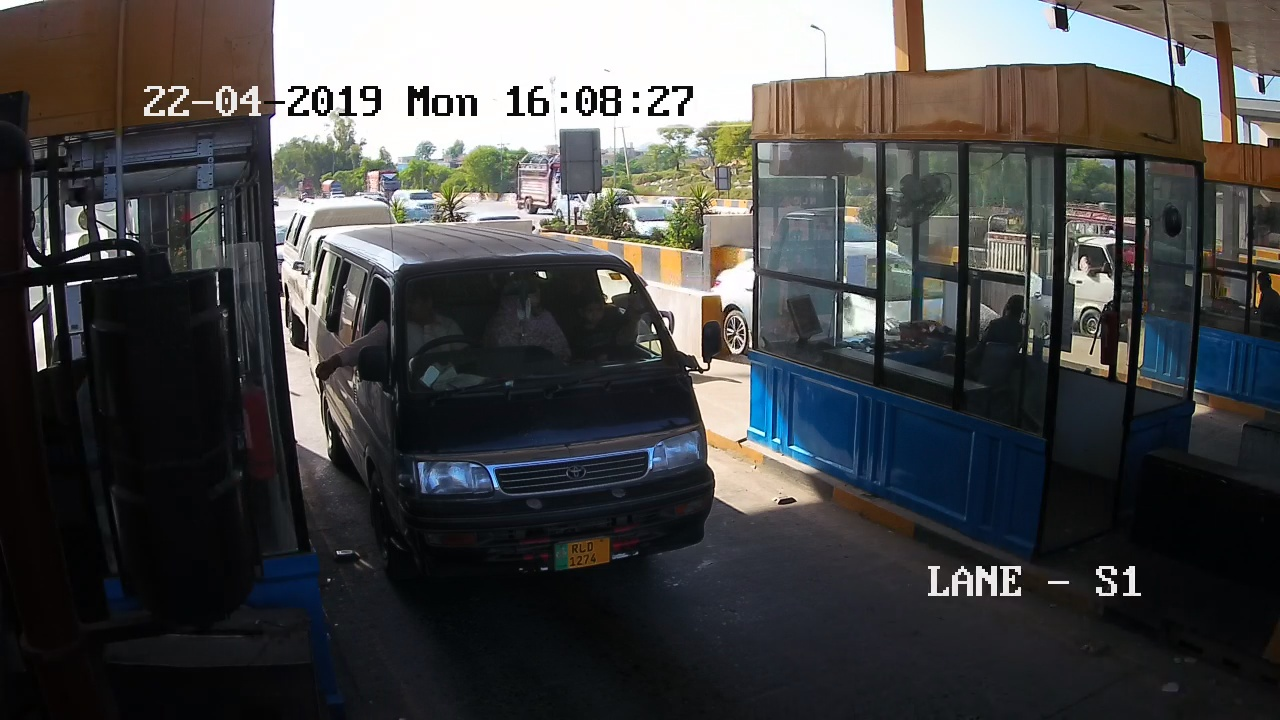Number Plate (Car): (548, 538, 615, 569)
